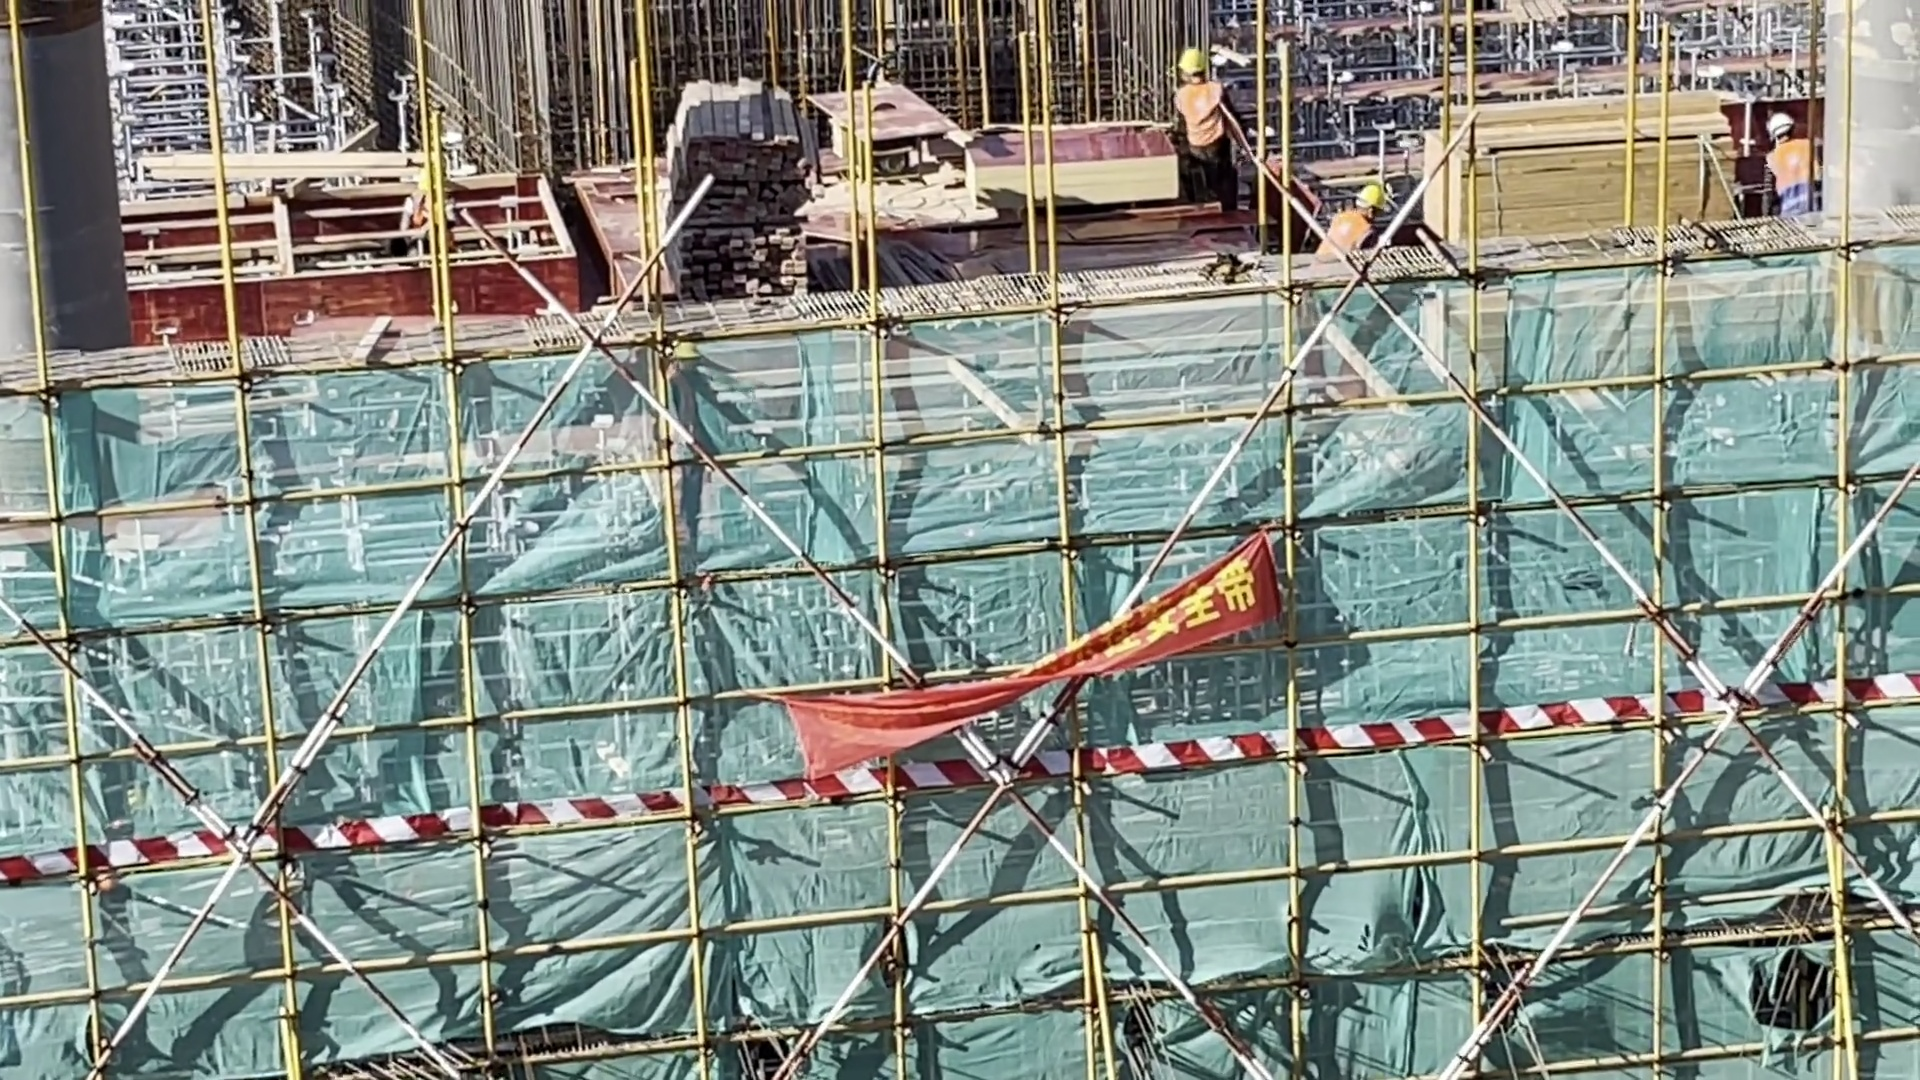helmet: (1348, 175, 1392, 219), (1169, 46, 1210, 79), (1762, 111, 1800, 146)
person: (1162, 42, 1247, 228), (1755, 109, 1829, 234), (1310, 174, 1395, 261)
slogan: (746, 510, 1292, 777)
vest: (1766, 139, 1826, 212), (1310, 201, 1375, 258), (1174, 82, 1221, 153)
wood: (1410, 80, 1759, 254), (644, 48, 818, 301)
